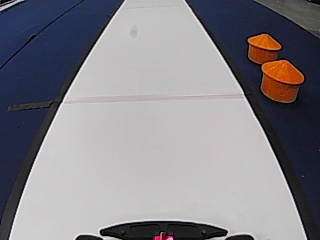granary: (259, 58, 305, 103), (245, 31, 282, 63)
